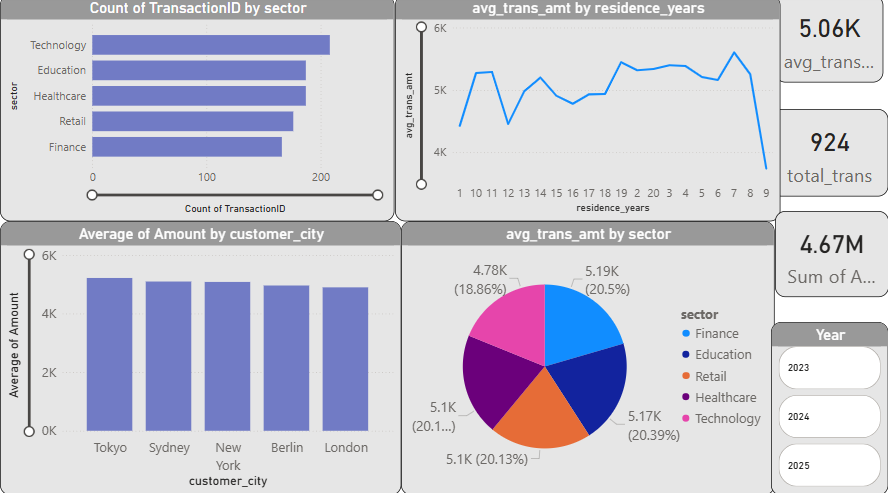

The dashboard page shown, as its layout file describes it:
{"tool":"powerbi","page":{"name":"part-14","canvas":[1280,720],"ordinal":12},"visuals":[{"type":"barChart","fields":{"Category":["customer.sector"],"Y":["CountNonNull(bank.TransactionID)"]},"box":[0,0,568.5,325.6],"z":0},{"type":"columnChart","fields":{"Category":["customer.customer_city"],"Y":["Avg(bank.Amount)"]},"box":[0,325.6,577.9,395.3],"z":1000},{"type":"card","fields":{"Values":["bank.total_trans"]},"box":[1110.6,163.8,169.4,126.1],"z":2000},{"type":"pieChart","fields":{"Category":["customer.sector"],"Y":["bank.avg_trans_amt"]},"box":[577.9,325.6,538.4,395.3],"z":3000},{"type":"card","fields":{"Values":["bank.avg_trans_amt"]},"box":[1116.2,0,156.2,126.1],"z":4000},{"type":"advancedSlicerVisual","fields":{"Values":["bank.Year"]},"box":[1110.6,470.6,169.4,250.4],"z":5000},{"type":"lineChart","fields":{"Category":["customer.residence_years"],"Y":["bank.avg_trans_amt"]},"box":[568.5,0,555.3,325.6],"z":6000},{"type":"card","fields":{"Values":["Sum(bank.Amount)"]},"box":[1116.2,310.6,163.8,124.2],"z":7000}]}

Visuals, with their boxes in screenshot pixels (x1, y1, x2, y2), scaled from the page's 1280x720 canvas onto the 888x493 screenshot:
barChart - customer.sector x CountNonNull(bank.TransactionID): <bbox>0, 0, 394, 223</bbox>
columnChart - customer.customer_city x Avg(bank.Amount): <bbox>0, 223, 401, 492</bbox>
card - bank.total_trans: <bbox>770, 112, 887, 199</bbox>
pieChart - customer.sector x bank.avg_trans_amt: <bbox>401, 223, 774, 492</bbox>
card - bank.avg_trans_amt: <bbox>774, 0, 883, 86</bbox>
advancedSlicerVisual - bank.Year: <bbox>770, 322, 887, 492</bbox>
lineChart - customer.residence_years x bank.avg_trans_amt: <bbox>394, 0, 780, 223</bbox>
card - Sum(bank.Amount): <bbox>774, 213, 887, 298</bbox>
